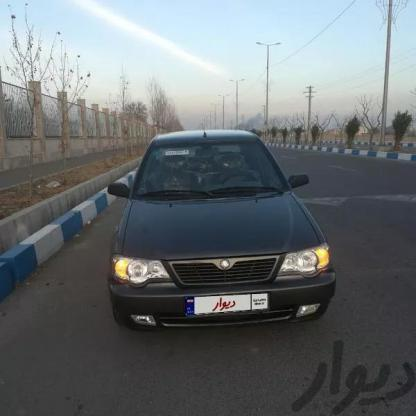Car: (94, 118, 343, 335)
